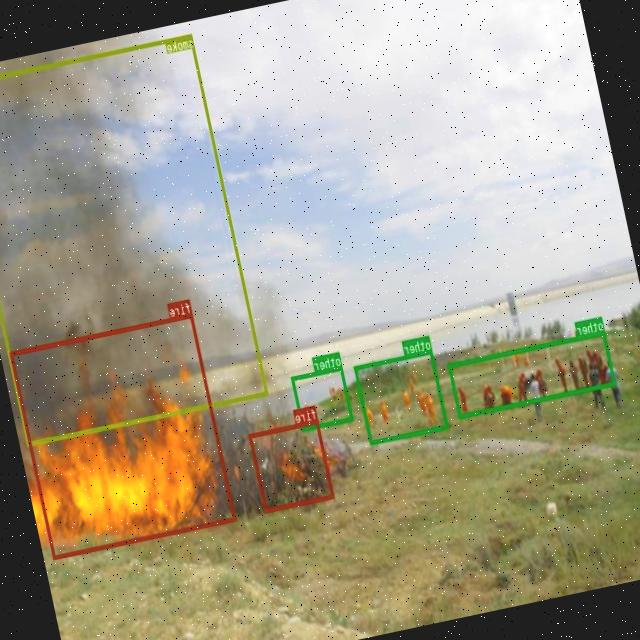fire: (10, 312, 236, 558), (248, 418, 334, 512)
smoke: (0, 32, 268, 445)
